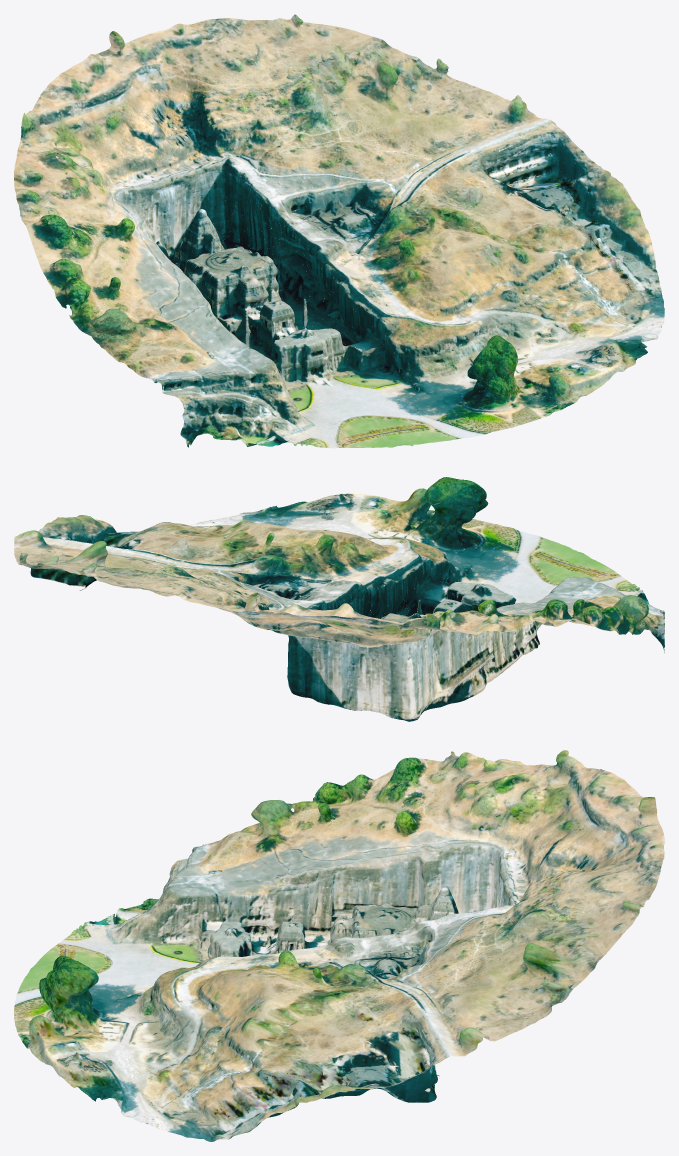
Rendered from ellora.glb.
3 views of the same model, one above another, from view 1: azimuth 30°, elevation 25°; view 2: azimuth 150°, elevation 25°; view 3: azimuth 270°, elevation 25° (orthographic).
Parts seen in each view (by area): view 1: Retopo_Model; view 2: Retopo_Model; view 3: Retopo_Model.
Boxes of the visible parts, left/top/right/bottom form: Retopo_Model: left=14, top=14, right=664, bottom=448; Retopo_Model: left=14, top=477, right=664, bottom=721; Retopo_Model: left=14, top=750, right=664, bottom=1141.
Bounding box in the file's own units: 2586 × 862 × 2584.
Materials: 1 (1 with a texture image).
